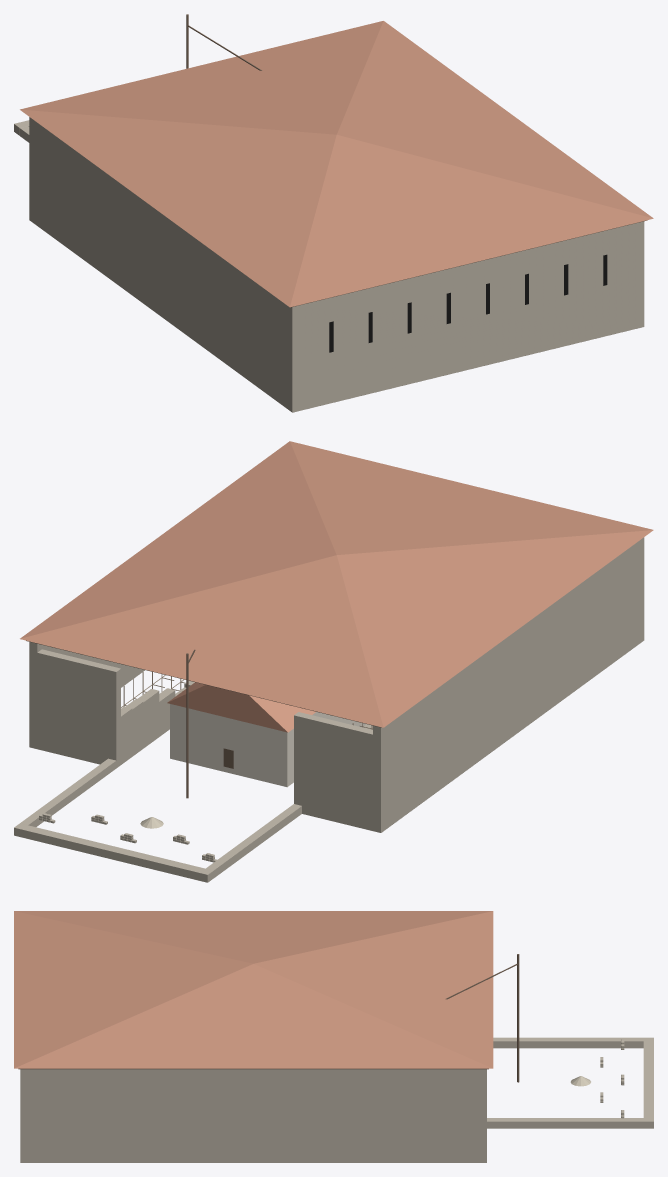
The model's file is santa_croce.glb.
The picture shows the model from 3 angles, top to bottom: view 1: azimuth 30°, elevation 25°; view 2: azimuth 150°, elevation 25°; view 3: azimuth 270°, elevation 25°; orthographic projection. The views are drawn at different scales.
Visible parts, largest first — view 1: santa_croce; view 2: santa_croce; view 3: santa_croce.
Part boxes in pixels (left/top/right/bottom): santa_croce: left=14, top=14, right=653, bottom=412; santa_croce: left=14, top=441, right=653, bottom=882; santa_croce: left=14, top=911, right=653, bottom=1162.
Size of the model in its own units: 71.4 by 28 by 123.
